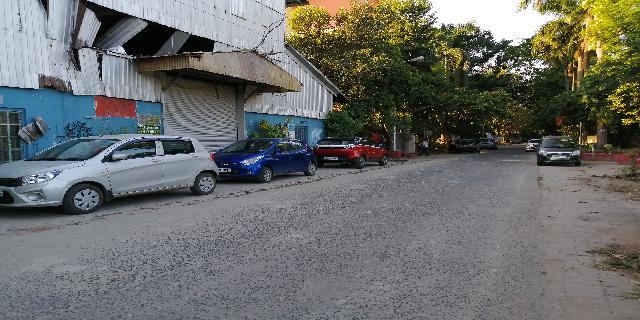Car: (1, 134, 224, 205), (211, 133, 321, 183), (315, 133, 393, 171), (533, 132, 588, 170)
